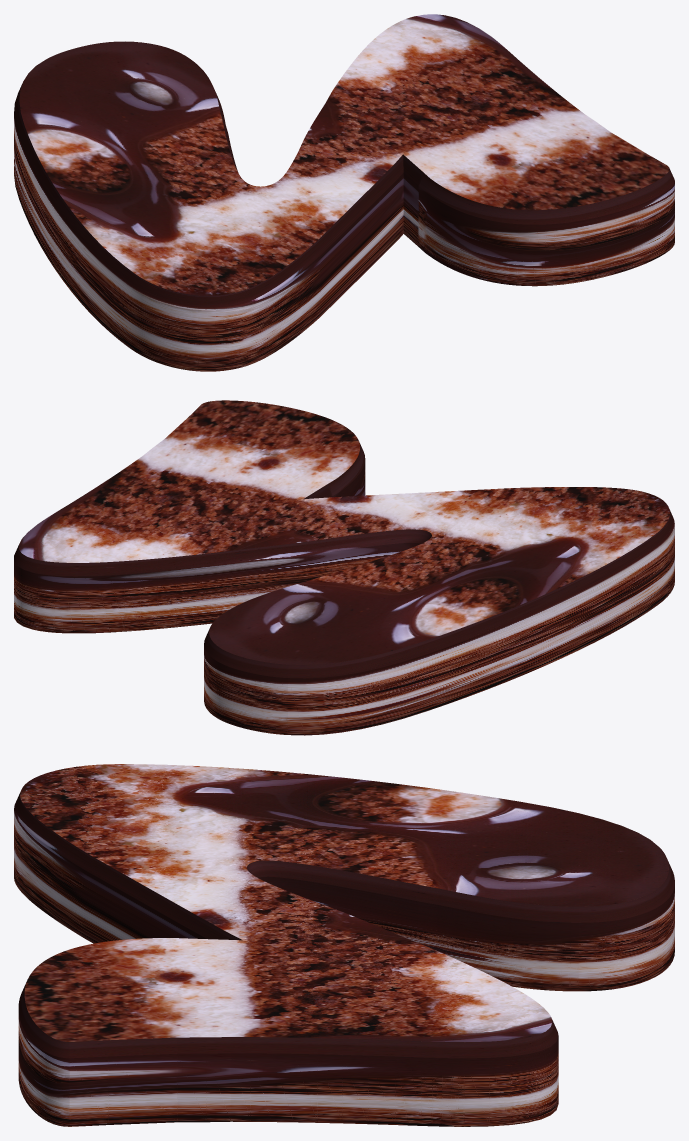
Rendered from myuu.FBX.
The picture shows the model from 3 angles, top to bottom: view 1: azimuth 30°, elevation 25°; view 2: azimuth 150°, elevation 25°; view 3: azimuth 270°, elevation 25°; orthographic projection. The views are drawn at different scales.
Parts seen in each view (by area): view 1: myB; view 2: myB; view 3: myB.
Part boxes in pixels (box(x1,y1,x2,y2)): myB: box(14, 14, 674, 371); myB: box(14, 400, 674, 735); myB: box(14, 764, 674, 1126).
Size of the model in its own units: 44.3 by 6 by 43.7.
Materials: 1 (1 with a texture image).
